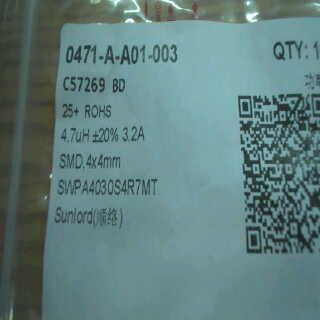4.7uH: (58, 125, 92, 146)
